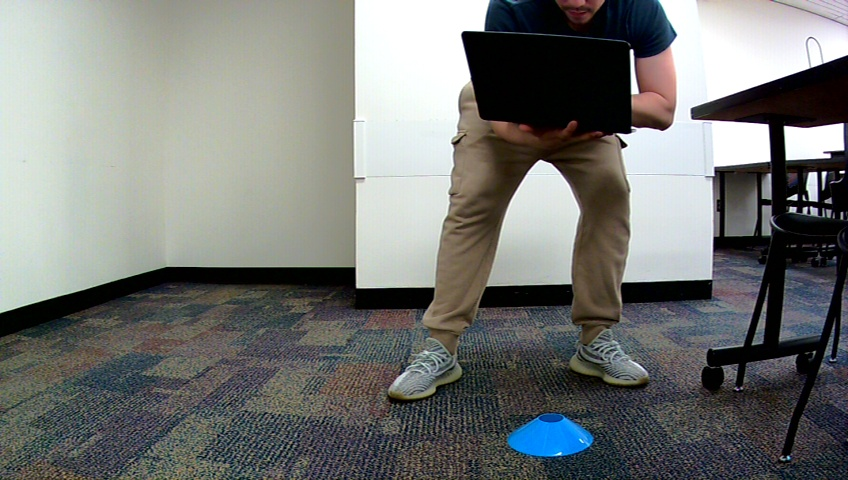cone: (504, 413, 595, 460)
